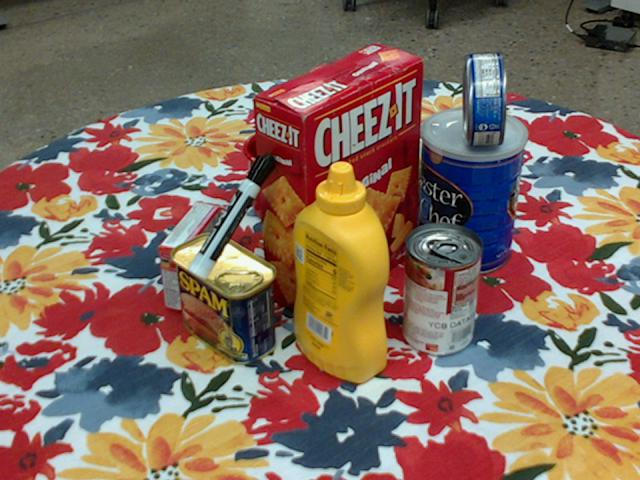cracker_box: (253, 43, 424, 319)
gelatin_box: (159, 200, 223, 312)
large_marker: (188, 151, 276, 278)
master_chef_can: (418, 107, 526, 276)
mug: (244, 127, 345, 226)
mustard_bottle: (294, 161, 390, 384)
potted_meat_can: (171, 233, 277, 365)
sugar_box: (296, 89, 458, 203)
tomato_soup_can: (402, 223, 483, 356)
tuna_fish_can: (462, 51, 507, 145)
